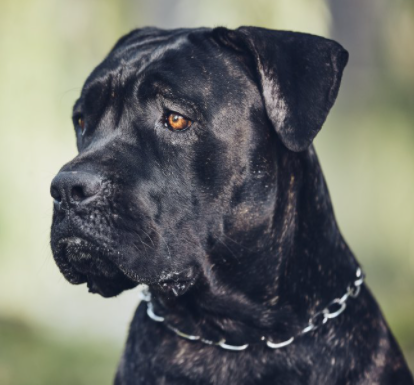dog: (44, 23, 414, 385)
